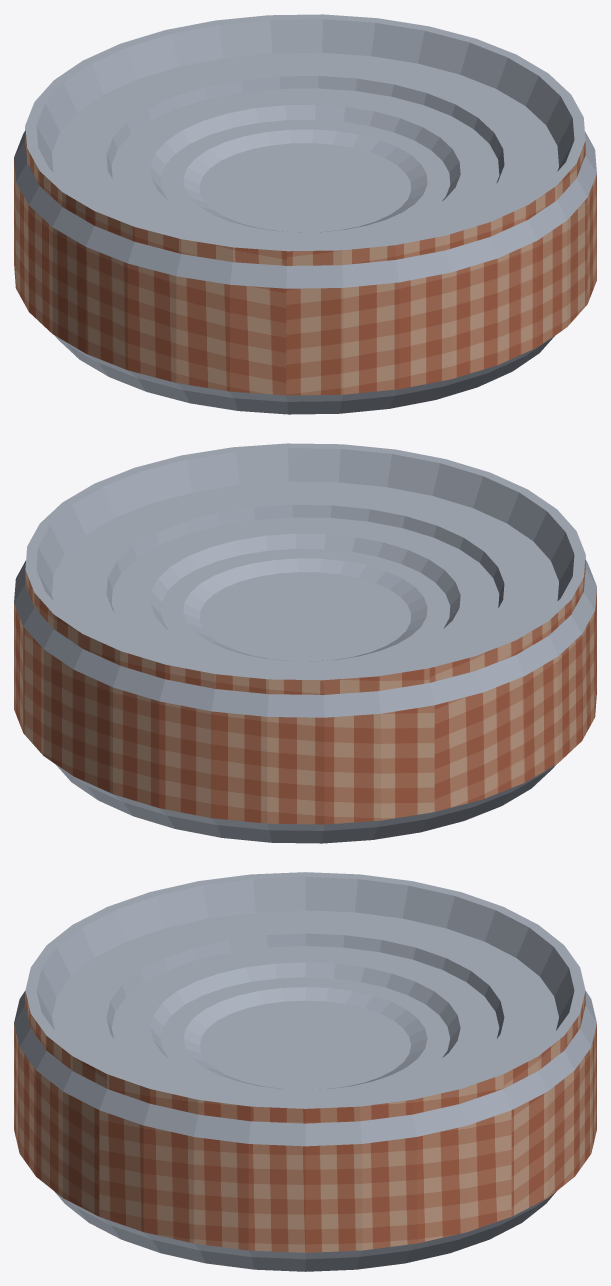
Rendered from catfoodcan.fbx.
3 renders of one model, top to bottom at view 1: azimuth 30°, elevation 25°; view 2: azimuth 150°, elevation 25°; view 3: azimuth 270°, elevation 25°, orthographic.
Visible parts, largest first — view 1: Circle; view 2: Circle; view 3: Circle.
Part boxes in pixels (x1=…): Circle: x1=14, y1=14, x2=596, y2=414; Circle: x1=14, y1=443, x2=596, y2=843; Circle: x1=14, y1=872, x2=596, y2=1271.
Size of the model in its own units: 224 by 72.53 by 224.
Materials: 2 (1 with a texture image).
